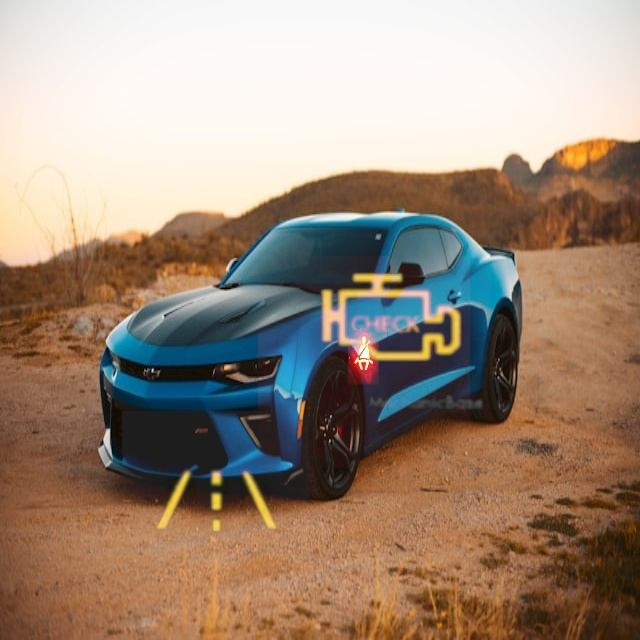symbol: (258, 256, 470, 468), (289, 217, 491, 419), (122, 411, 309, 598)
